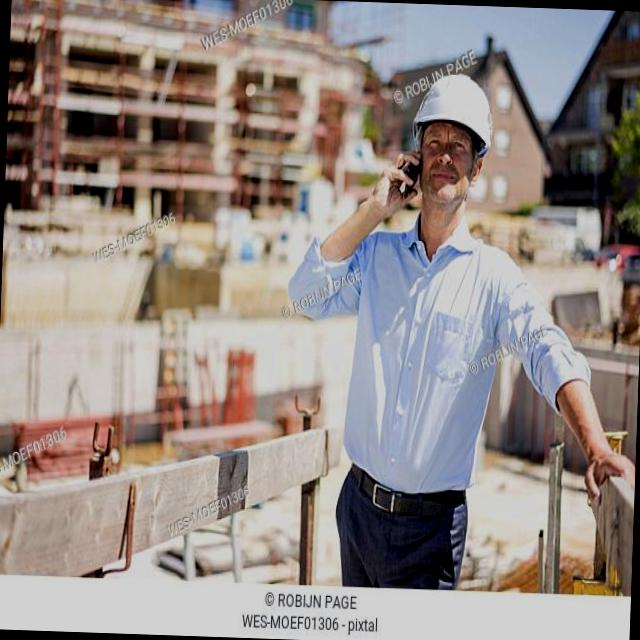helmet: (392, 68, 502, 152)
no-goggles: (409, 124, 485, 170)
no-vest: (344, 222, 510, 488)
